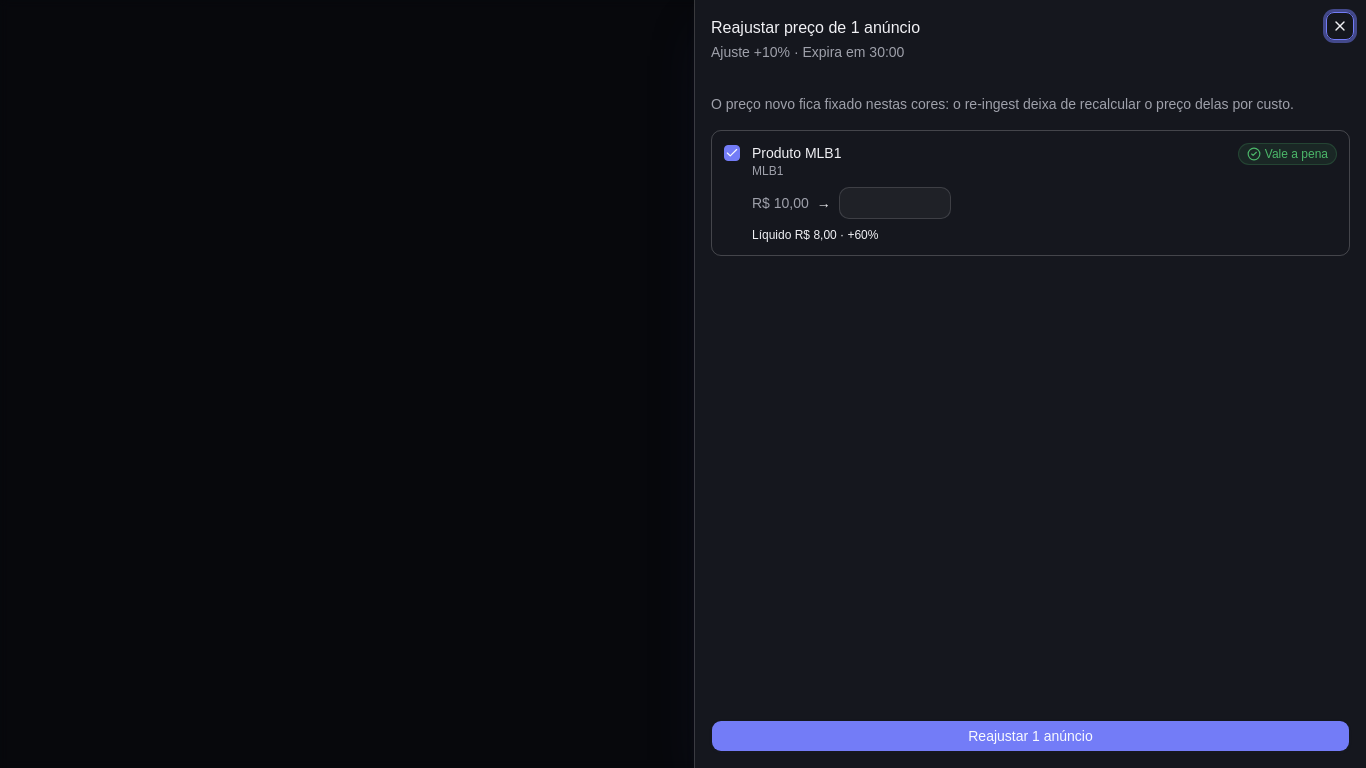
PreviewReajuste › recusa do confirmar mostra cada anúncio e o motivo
Click the button "Reajustar 1 anúncio": {"x": 1030, "y": 736} [711,720,1350,752]
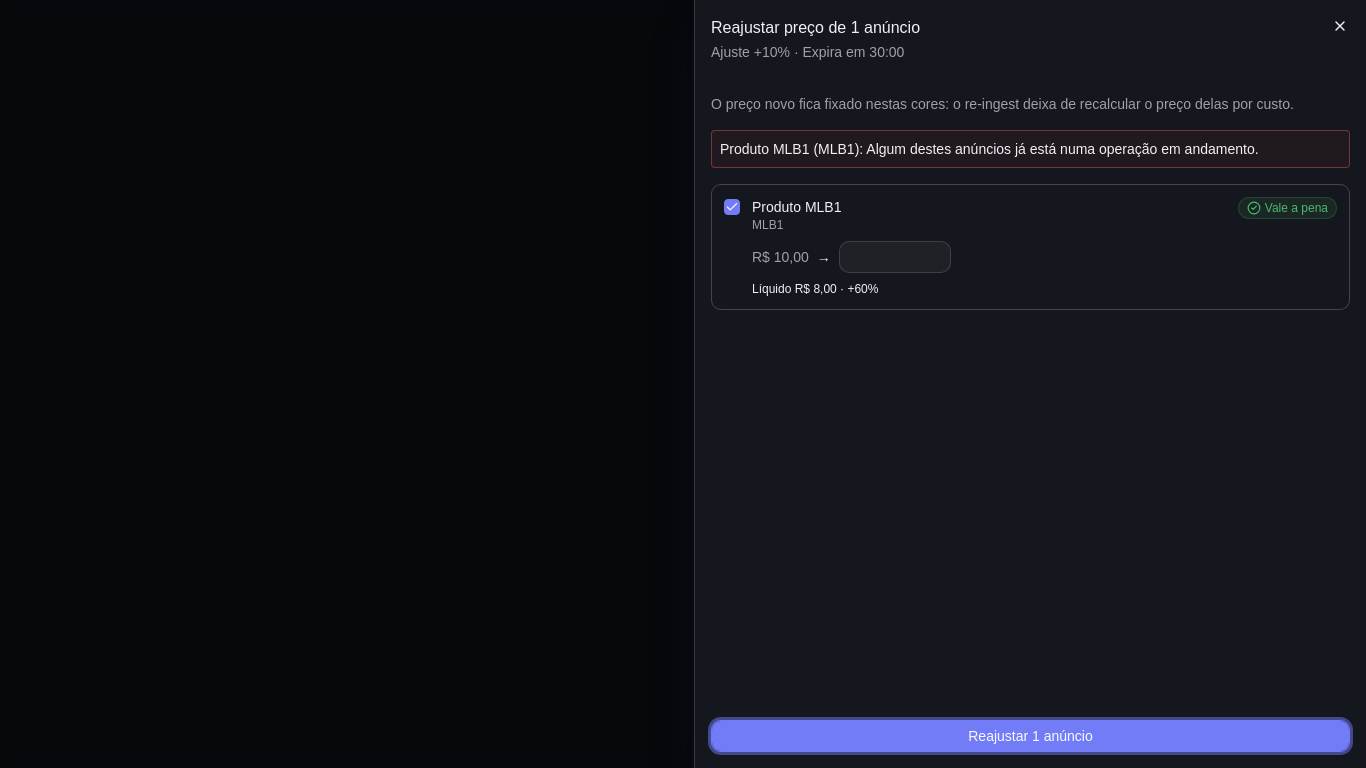
Expected: the list item "Produto MLB1 (MLB1): Algum destes" is shown, [720,139,1341,159]
